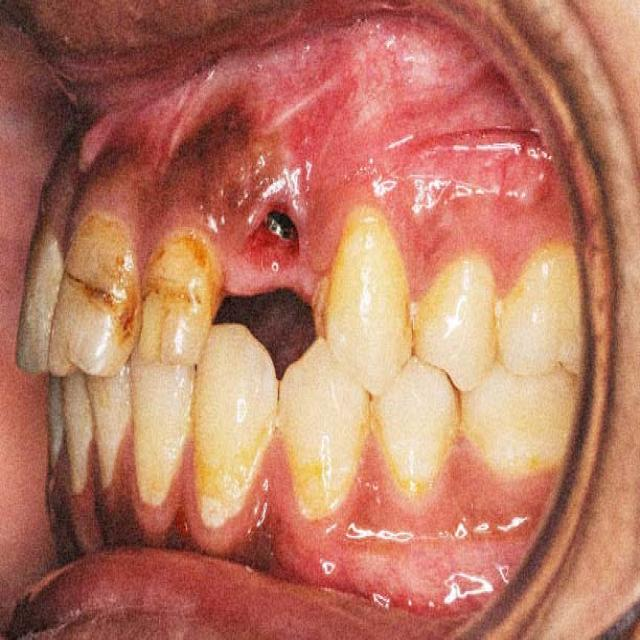caries: (63, 259, 125, 332), (140, 272, 211, 333)
